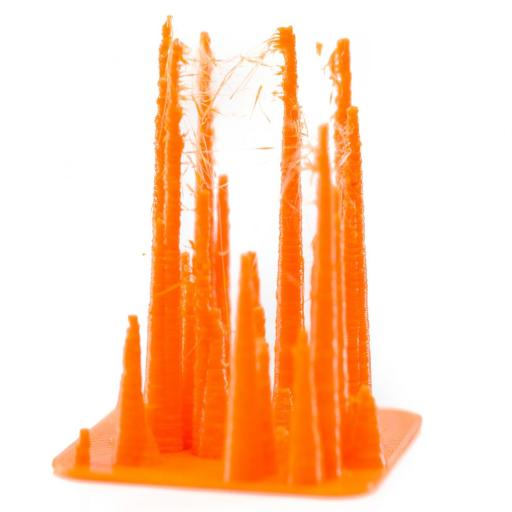stringing: (178, 53, 262, 194), (328, 112, 352, 192), (259, 26, 279, 84)
